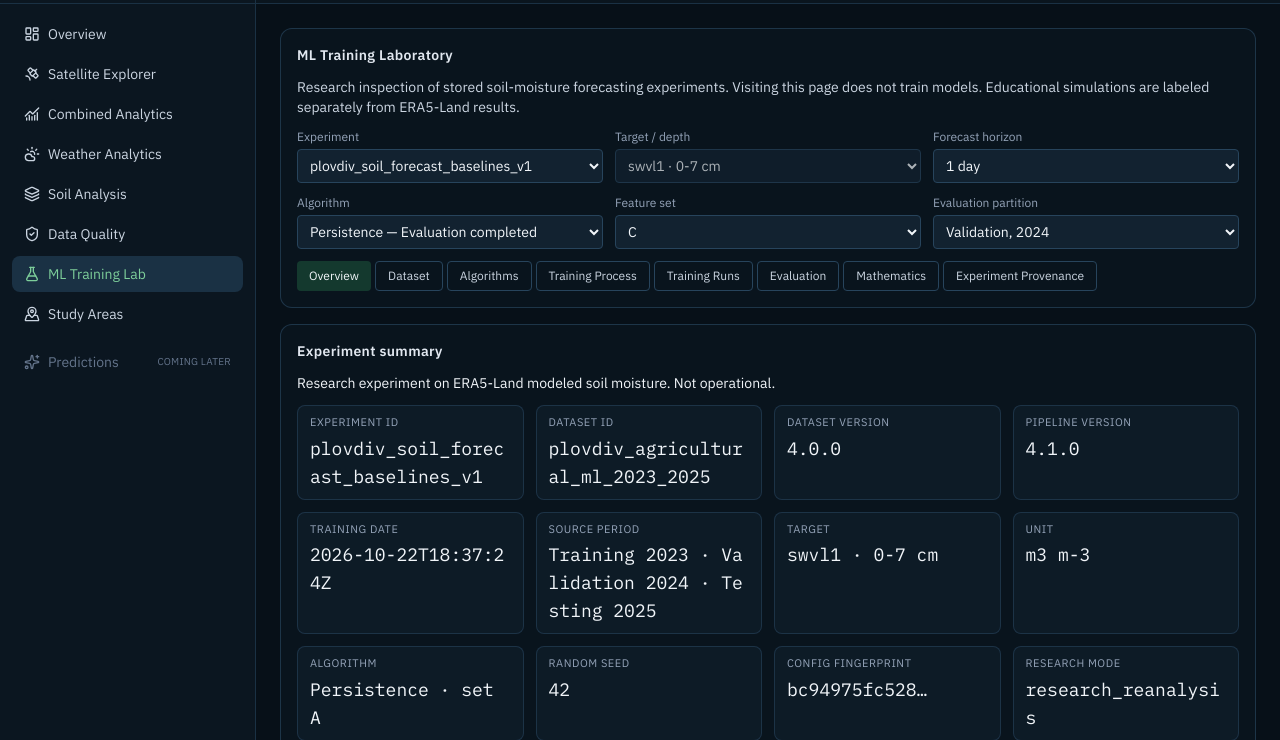
Test: ML Training Laboratory › renders provenance caution flags
expect the heading "Experiment summary" is shown: met, box [297,341,443,361]
Click the tab "Experiment Provenance".
click(1020, 276)  # box [943,261,1097,291]
(page scrolled)
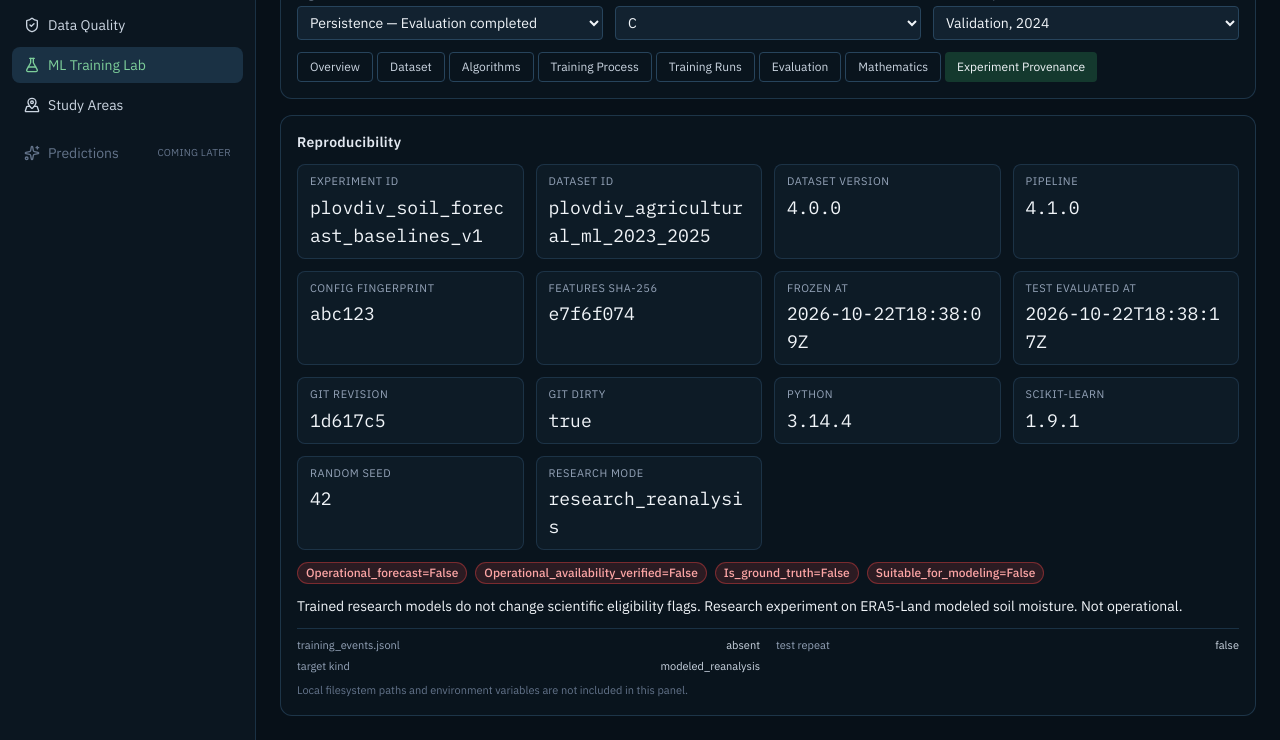
expect the text "operational_availability_verified=false" is shown: met, box [475,562,707,584]
expect the text "is_ground_truth=false" is shown: met, box [715,562,859,584]
expect the text "suitable_for_modeling=false" is shown: met, box [867,562,1044,584]
